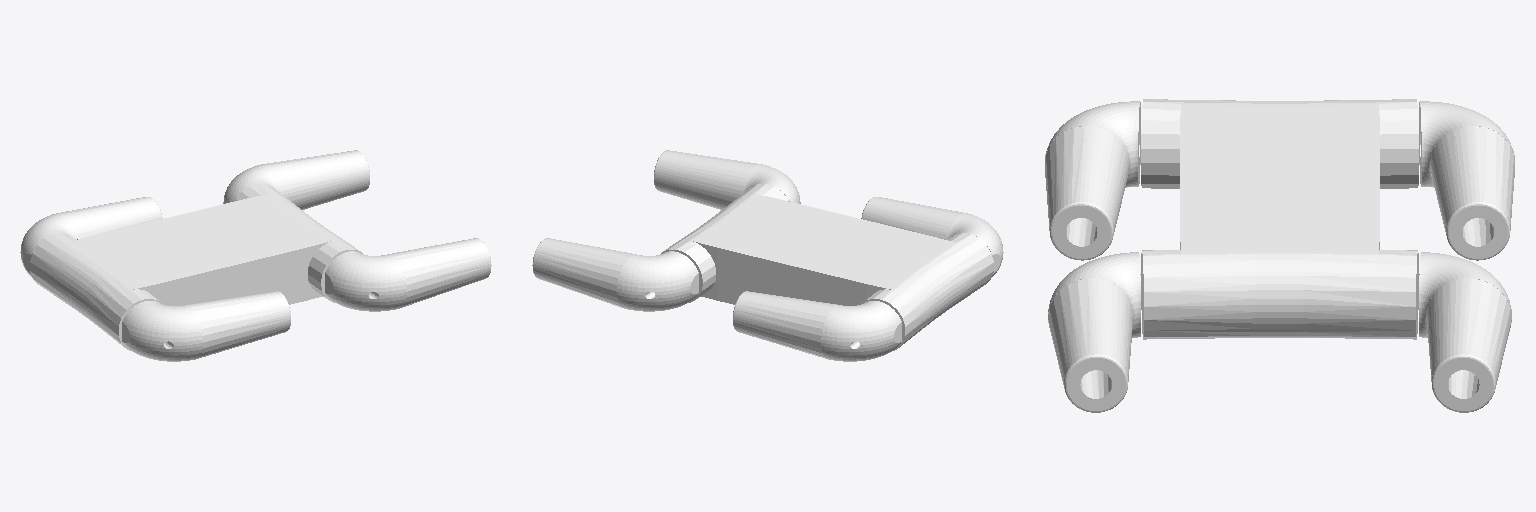
The robot description file, URDF, robot "2_degree":
<?xml version="1.0" encoding="utf-8"?>
<!-- This URDF was automatically created by SolidWorks to URDF Exporter! Originally created by [author] ([email redacted]) 
     Commit Version: 1.5.1-0-g916b5db  Build Version: 1.5.7152.31018
     For more information, please see http://wiki.ros.org/sw_urdf_exporter -->
<robot
  name="2_degree">
  <link
    name="base_link">
    <inertial>
      <origin
        xyz="3.4694E-17 9.0373E-09 5.2042E-18"
        rpy="0 0 0" />
      <mass
        value="2.942" />
      <inertia
        ixx="0.0109960"
        ixy="-2.0663E-18"
        ixz="-1.0559E-10"
        iyy="0.0370511"
        iyz="5.5512E-19"
        izz="0.0454292" />
    </inertial>
    <visual>
      <origin
        xyz="0 0 0"
        rpy="0 0 0" />
      <geometry>
        <mesh
          filename="package://2_degree/meshes/base_link.STL" />
      </geometry>
      <material
        name="">
        <color
          rgba="1 1 1 1" />
      </material>
    </visual>
    <collision>
      <origin
        xyz="0 0 0"
        rpy="0 0 0" />
      <geometry>
        <mesh
          filename="package://2_degree/meshes/base_link.STL" />
      </geometry>
    </collision>
  </link>
  <link
    name="left_front_link">
    <inertial>
      <origin
        xyz="-2.428E-08 0.05683 -0.036011"
        rpy="0 0 0" />
      <mass
        value="0.095" />
      <inertia
        ixx="0.0002672"
        ixy="6.4494E-10"
        ixz="6.0168E-10"
        iyy="0.0000540"
        iyz="2.33E-05"
        izz="0.0002642" />
    </inertial>
    <visual>
      <origin
        xyz="0 0 0"
        rpy="0 0 0" />
      <geometry>
        <mesh
          filename="package://2_degree/meshes/left_front_link.STL" />
      </geometry>
      <material
        name="">
        <color
          rgba="1 1 1 1" />
      </material>
    </visual>
    <collision>
      <origin
        xyz="0 0 0"
        rpy="0 0 0" />
      <geometry>
        <mesh
          filename="package://2_degree/meshes/left_front_link.STL" />
      </geometry>
    </collision>
  </link>
  <joint
    name="left_front_leg"
    type="continuous">
    <origin
      xyz="0.13359 0.10294 0"
      rpy="1.6057 1.5708 0" />
    <parent
      link="base_link" />
    <child
      link="left_front_link" />
    <axis
      xyz="0 0 -1" />
    <limit
      effort="5"
      velocity="487" />
  </joint>
  <link
    name="right_front_link">
    <inertial>
      <origin
        xyz="2.428E-08 0.05683 0.036011"
        rpy="0 0 0" />
      <mass
        value="0.095" />
      <inertia
        ixx="0.0002672"
        ixy="-6.4494E-10"
        ixz="6.0168E-10"
        iyy="0.0000540"
        iyz="-2.33E-05"
        izz="0.0002642" />
    </inertial>
    <visual>
      <origin
        xyz="0 0 0"
        rpy="0 0 0" />
      <geometry>
        <mesh
          filename="package://2_degree/meshes/right_front_link.STL" />
      </geometry>
      <material
        name="">
        <color
          rgba="1 1 1 1" />
      </material>
    </visual>
    <collision>
      <origin
        xyz="0 0 0"
        rpy="0 0 0" />
      <geometry>
        <mesh
          filename="package://2_degree/meshes/right_front_link.STL" />
      </geometry>
    </collision>
  </link>
  <joint
    name="right_front_leg"
    type="continuous">
    <origin
      xyz="0.13359 -0.10294 0"
      rpy="1.5359 1.5708 0" />
    <parent
      link="base_link" />
    <child
      link="right_front_link" />
    <axis
      xyz="0 0 1" />
    <limit
      effort="5"
      velocity="487" />
  </joint>
  <link
    name="right_back_link">
    <inertial>
      <origin
        xyz="1.2089E-08 0.05683 0.036011"
        rpy="0 0 0" />
      <mass
        value="0.095" />
      <inertia
        ixx="0.0002672"
        ixy="-7.2354E-10"
        ixz="7.2363E-10"
        iyy="0.0000540"
        iyz="-2.33E-05"
        izz="0.0002642" />
    </inertial>
    <visual>
      <origin
        xyz="0 0 0"
        rpy="0 0 0" />
      <geometry>
        <mesh
          filename="package://2_degree/meshes/right_back_link.STL" />
      </geometry>
      <material
        name="">
        <color
          rgba="1 1 1 1" />
      </material>
    </visual>
    <collision>
      <origin
        xyz="0 0 0"
        rpy="0 0 0" />
      <geometry>
        <mesh
          filename="package://2_degree/meshes/right_back_link.STL" />
      </geometry>
    </collision>
  </link>
  <joint
    name="right_back_leg"
    type="continuous">
    <origin
      xyz="-0.13359 -0.10294 0"
      rpy="1.6057 1.5708 0" />
    <parent
      link="base_link" />
    <child
      link="right_back_link" />
    <axis
      xyz="0 0 1" />
    <limit
      effort="5"
      velocity="487" />
  </joint>
  <link
    name="left_back_link">
    <inertial>
      <origin
        xyz="-1.2089E-08 0.05683 -0.036011"
        rpy="0 0 0" />
      <mass
        value="0.095" />
      <inertia
        ixx="0.0002672"
        ixy="7.2354E-10"
        ixz="7.2363E-10"
        iyy="0.0000540"
        iyz="2.33E-05"
        izz="0.0002642" />
    </inertial>
    <visual>
      <origin
        xyz="0 0 0"
        rpy="0 0 0" />
      <geometry>
        <mesh
          filename="package://2_degree/meshes/left_back_link.STL" />
      </geometry>
      <material
        name="">
        <color
          rgba="1 1 1 1" />
      </material>
    </visual>
    <collision>
      <origin
        xyz="0 0 0"
        rpy="0 0 0" />
      <geometry>
        <mesh
          filename="package://2_degree/meshes/left_back_link.STL" />
      </geometry>
    </collision>
  </link>
  <joint
    name="left_back_leg"
    type="continuous">
    <origin
      xyz="-0.13359 0.10294 0"
      rpy="1.5359 1.5708 0" />
    <parent
      link="base_link" />
    <child
      link="left_back_link" />
    <axis
      xyz="0 0 -1" />
    <limit
      effort="5"
      velocity="487" />
  </joint>
</robot>

--- Render facts (derived) ---
Views: 3 orthographic renders of the robot side by side, from view 1: azimuth 30°, elevation 25°; view 2: azimuth 150°, elevation 25°; view 3: azimuth 270°, elevation 25°.
Robot: 2_degree — 5 links, 4 joints (4 continuous); root link base_link; default pose: every joint at zero.
Links seen in each view (by area): view 1: base_link, right_back_link, right_front_link, left_front_link, left_back_link; view 2: base_link, left_back_link, left_front_link, right_front_link, right_back_link; view 3: base_link, right_back_link, left_back_link, right_front_link, left_front_link.
Boxes of the visible links, x1,y1,x2,y2 form: base_link: (30, 184, 362, 350); right_back_link: (122, 291, 290, 361); right_front_link: (325, 238, 491, 311); left_front_link: (223, 150, 369, 209); left_back_link: (20, 197, 162, 276); base_link: (661, 184, 993, 350); left_back_link: (733, 291, 901, 361); left_front_link: (532, 238, 698, 311); right_front_link: (654, 150, 800, 209); right_back_link: (861, 197, 1003, 276); base_link: (1141, 99, 1418, 339); right_back_link: (1045, 101, 1140, 260); left_back_link: (1419, 101, 1514, 260); right_front_link: (1048, 252, 1140, 412); left_front_link: (1419, 252, 1511, 412).
Bounding box of the posed robot: 0.4604 × 0.3528 × 0.0672 m (x, y, z).
5 mesh visuals loaded from 5 distinct referenced files (5 binary STL).